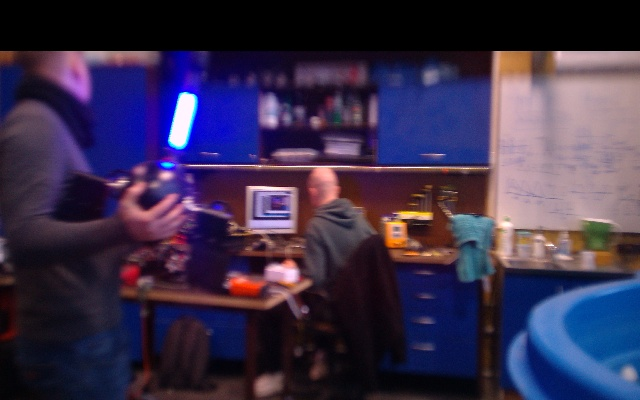blue: (166, 91, 199, 151)
